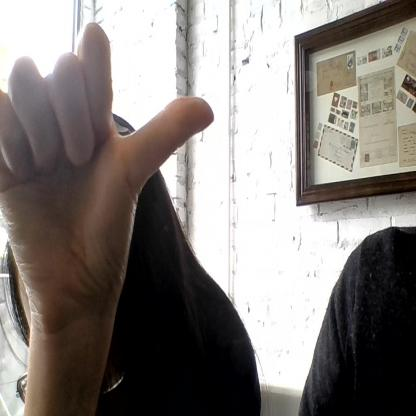left: (1, 15, 214, 296)
